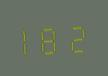eight: (42, 20, 64, 55)
one: (18, 21, 40, 56)
two: (65, 19, 87, 54)
